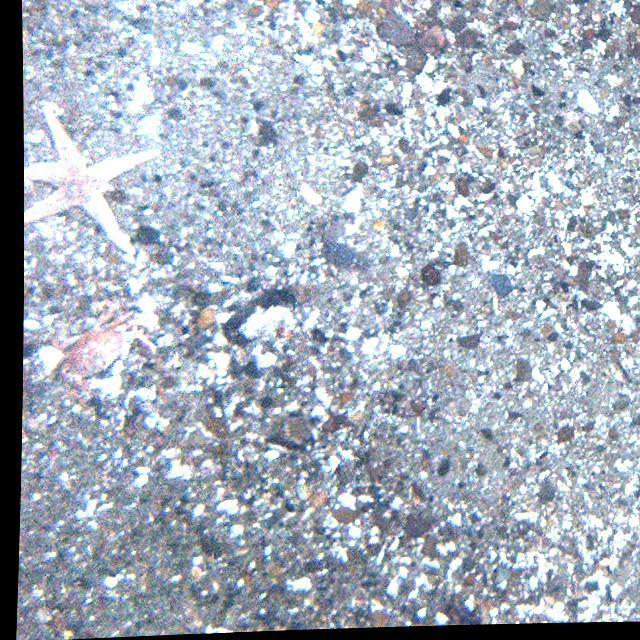crab: (43, 308, 158, 392)
